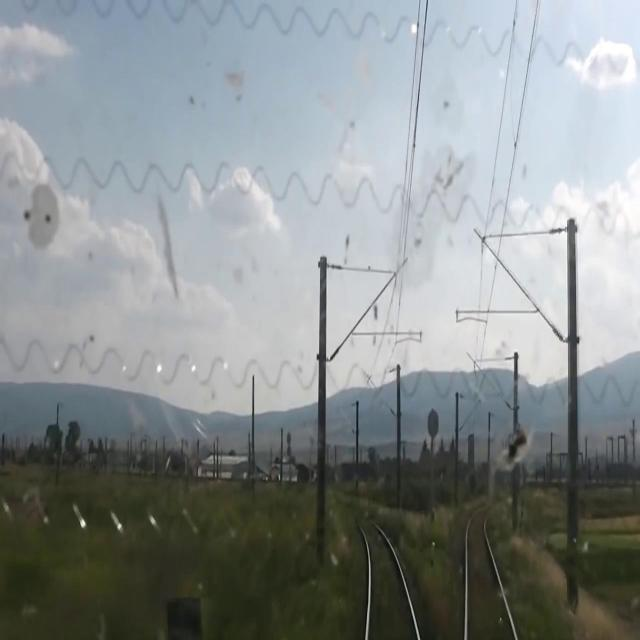rail-track: (362, 495, 415, 639), (469, 514, 512, 639)
